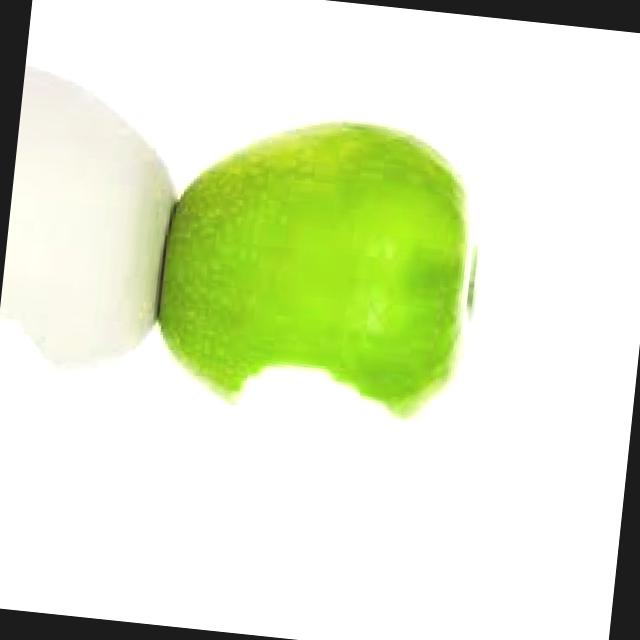Used Apple: (146, 105, 492, 423)
